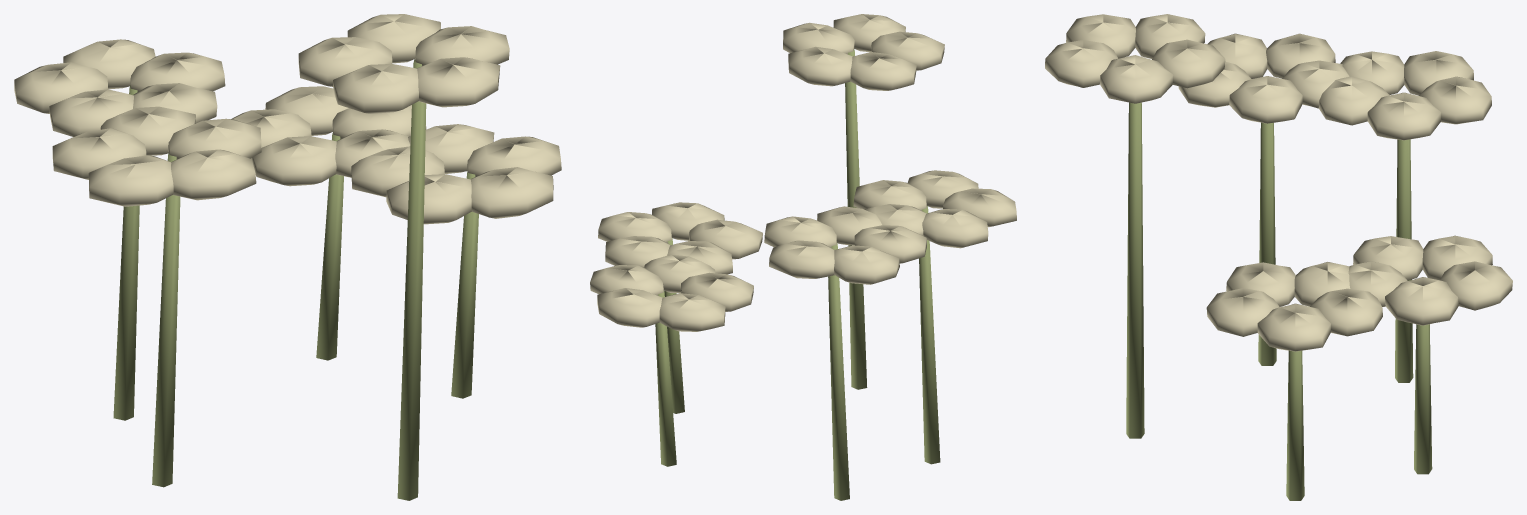
File: SM_Flowers_00_UV_0431.fbx
The picture shows the model from 3 angles, left to right: view 1: azimuth 30°, elevation 25°; view 2: azimuth 150°, elevation 25°; view 3: azimuth 270°, elevation 25°; orthographic projection. The views are drawn at different scales.
Visible parts, largest first — view 1: SM_Flowers_00_UV_0431; view 2: SM_Flowers_00_UV_0431; view 3: SM_Flowers_00_UV_0431.
Boxes of the visible parts, box(x1,y1,x2,y2) form: SM_Flowers_00_UV_0431: box(14, 14, 561, 500); SM_Flowers_00_UV_0431: box(590, 14, 1016, 500); SM_Flowers_00_UV_0431: box(1045, 14, 1512, 500).
Bounding box in the file's own units: 76.87 × 70.5 × 65.59.
